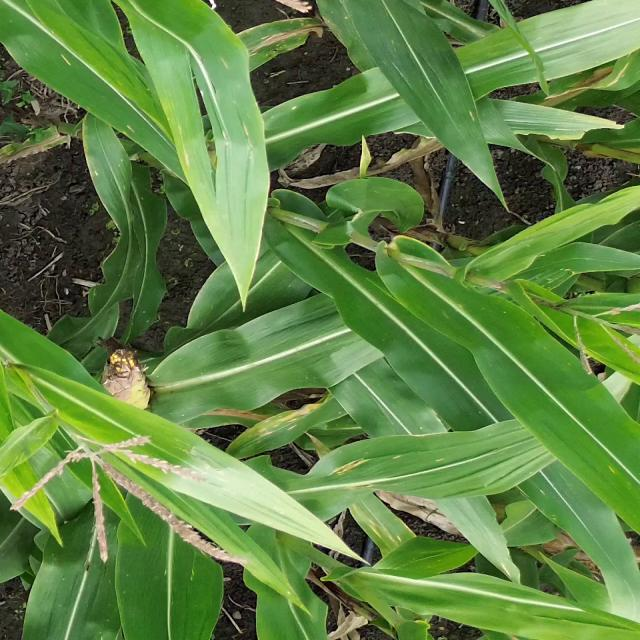gray-leaf-spot: (200, 49, 264, 162), (334, 455, 454, 489), (352, 506, 409, 548), (254, 407, 318, 439)
northern-leaf-blight: (542, 72, 619, 108), (243, 28, 302, 56)
southern-leaf-blight: (56, 573, 120, 638), (90, 154, 141, 198), (533, 262, 578, 294)
